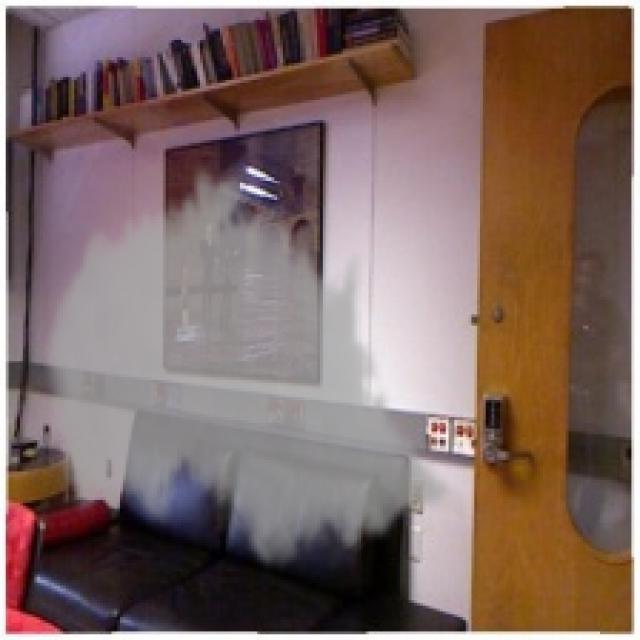Smoke: (39, 160, 452, 580)
